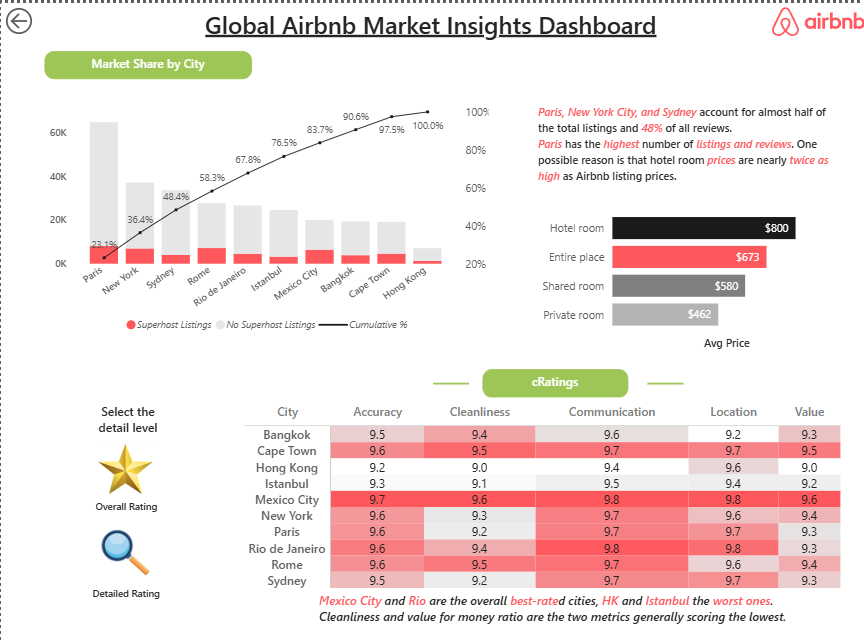

The page's visual inventory and layout, read from the dashboard file:
{"tool":"powerbi","page":{"name":"Ratings","canvas":[960,720],"ordinal":1},"visuals":[{"type":"textbox","box":[221.2,0,517.5,105],"z":0},{"type":"image","box":[106.3,485.7,63.5,65.1],"z":0,"group":"g1"},{"type":"image","box":[106.3,571.4,63.5,77.8],"z":0,"group":"g2"},{"type":"image","box":[856.7,0,103.3,41.7],"z":1000},{"type":"textbox","box":[100,544.4,82.5,66.7],"z":1000,"group":"g1"},{"type":"textbox","box":[96.8,639.7,88.9,44.4],"z":1000,"group":"g2"},{"type":"textbox","box":[48.3,53.3,230.7,31.2],"z":2000},{"type":"lineStackedColumnComboChart","fields":{"Category":["Listings.city"],"Y":["Listings.Superhost Listings","Listings.No Superhost Listings"],"Y2":["Listings.Cumulative %"]},"box":[48.3,105,498.3,270],"z":3000},{"type":"barChart","fields":{"Category":["Listings.room_type"],"Y":["Listings.Avg Price"]},"box":[590,211.7,348.3,178.3],"z":4000},{"type":"textbox","box":[591.7,105,348.3,123.3],"z":5000},{"type":"textbox","box":[534.9,406.3,161.7,31.7],"z":7000},{"type":"shape","box":[479.4,315.9,40,212.5],"z":8000},{"type":"shape","box":[719,315.9,40,212.5],"z":9000},{"type":"pivotTable","fields":{"Rows":["Listings.city"],"Values":["Listings.Accuracy","Listings.Cleanliness","Listings.Communication","Listings.Location","Listings.Value"]},"box":[265.1,438.1,674.6,223.8],"z":10000},{"type":"actionButton","box":[0,0,100,40],"z":11000},{"type":"textbox","box":[96.8,438.1,88.9,47.6],"z":12000},{"type":"group","id":"g1","title":"Group 1","box":[100,485.7,82.5,125.4],"z":13000},{"type":"group","id":"g2","title":"Group 2","box":[96.8,571.4,88.9,112.7],"z":14000},{"type":"textbox","box":[348.3,648.3,534.5,51.7],"z":16000}]}

Visuals, with their boxes in screenshot pixels (x1, y1, x2, y2), scaled from the page's 960x720 canvas onto the 864x643 screenshot:
textbox: <region>199, 0, 665, 94</region>
image: <region>96, 434, 153, 492</region>
image: <region>96, 510, 153, 580</region>
image: <region>771, 0, 863, 37</region>
textbox: <region>90, 486, 164, 546</region>
textbox: <region>87, 571, 167, 611</region>
textbox: <region>43, 48, 251, 75</region>
lineStackedColumnComboChart - Listings.city x Listings.Superhost Listings: <region>43, 94, 492, 335</region>
barChart - Listings.room_type x Listings.Avg Price: <region>531, 189, 844, 348</region>
textbox: <region>533, 94, 846, 204</region>
textbox: <region>481, 363, 627, 391</region>
shape: <region>431, 282, 467, 472</region>
shape: <region>647, 282, 683, 472</region>
pivotTable - Listings.city x Listings.Accuracy: <region>239, 391, 846, 591</region>
actionButton: <region>0, 0, 90, 36</region>
textbox: <region>87, 391, 167, 434</region>
"Group 1" group: <region>90, 434, 164, 546</region>
"Group 2" group: <region>87, 510, 167, 611</region>
textbox: <region>313, 579, 795, 625</region>
